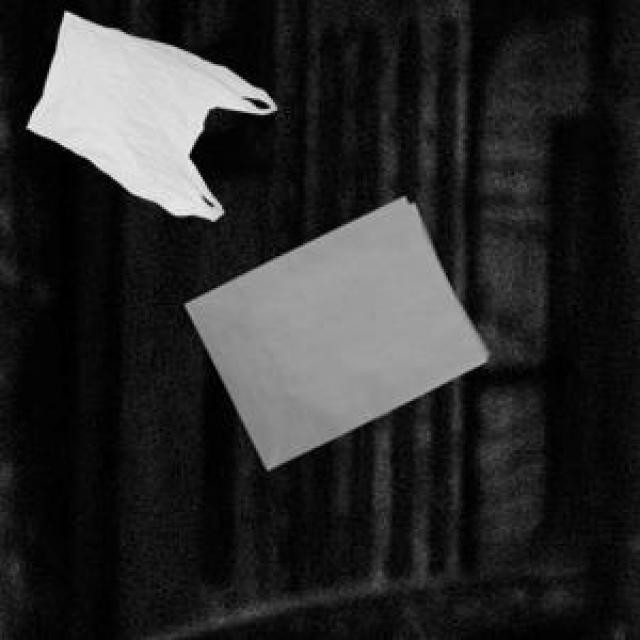paper: (181, 192, 484, 465)
